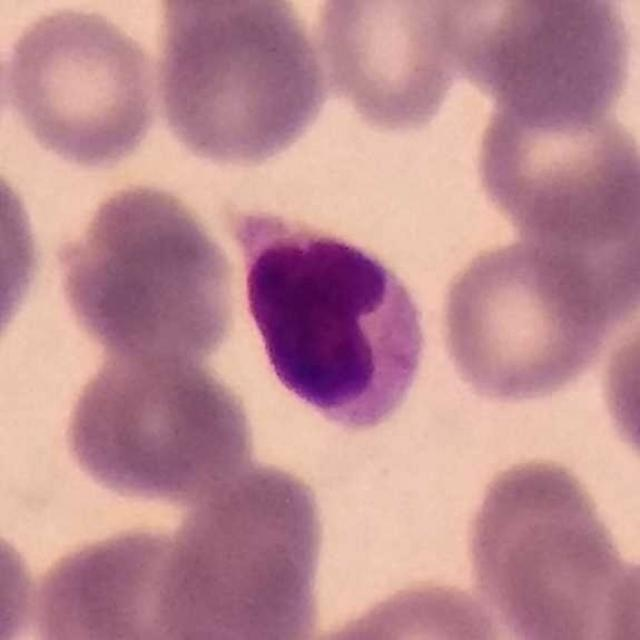Lymphocyte: (232, 212, 438, 438)
RBC: (51, 177, 244, 364), (152, 456, 333, 640), (460, 453, 634, 640), (57, 346, 257, 507), (433, 234, 617, 408), (148, 1, 333, 173), (2, 1, 166, 174), (468, 81, 640, 244), (25, 517, 236, 640), (307, 0, 470, 137), (471, 0, 638, 132), (516, 149, 640, 326), (421, 0, 604, 90), (297, 574, 513, 640), (0, 152, 49, 370), (594, 296, 640, 481), (0, 513, 41, 640), (595, 547, 639, 640)
